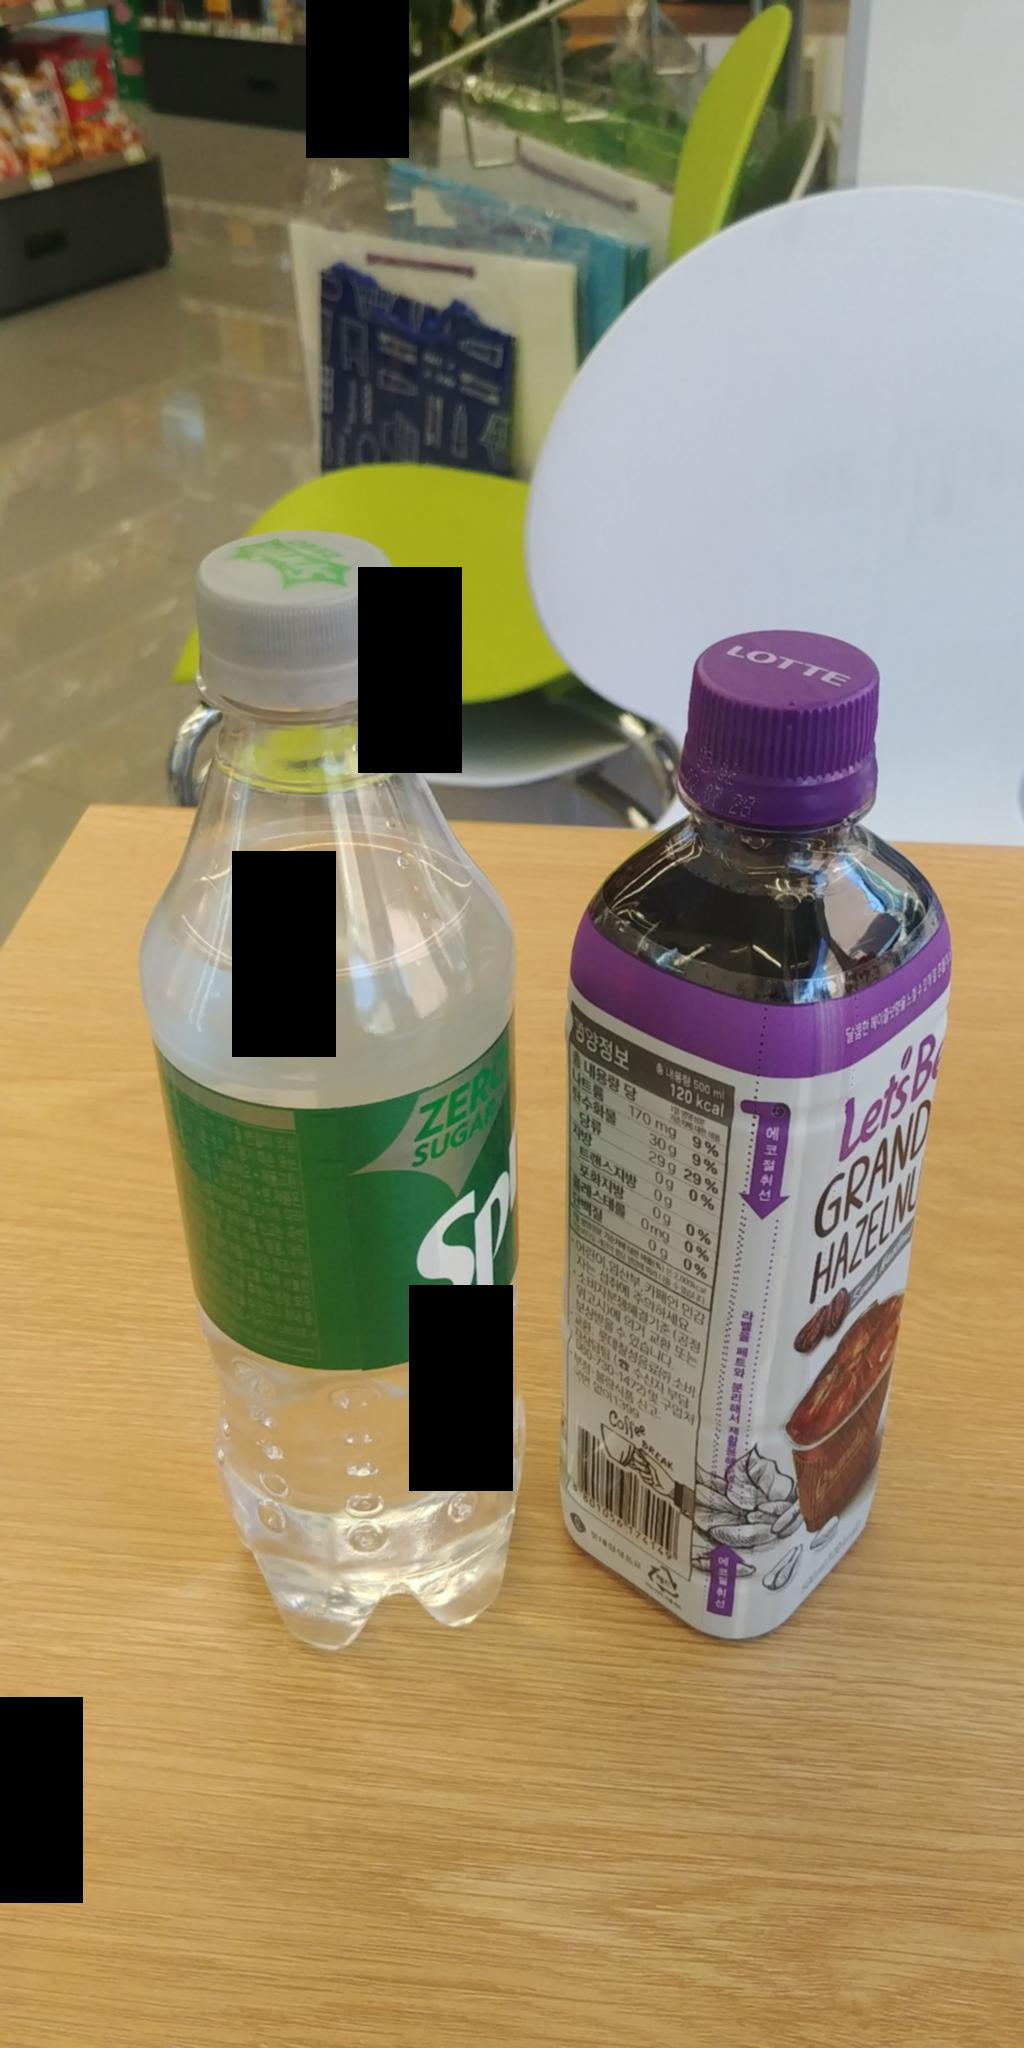sprite_zero: (124, 537, 550, 1660), (559, 626, 943, 1630)
